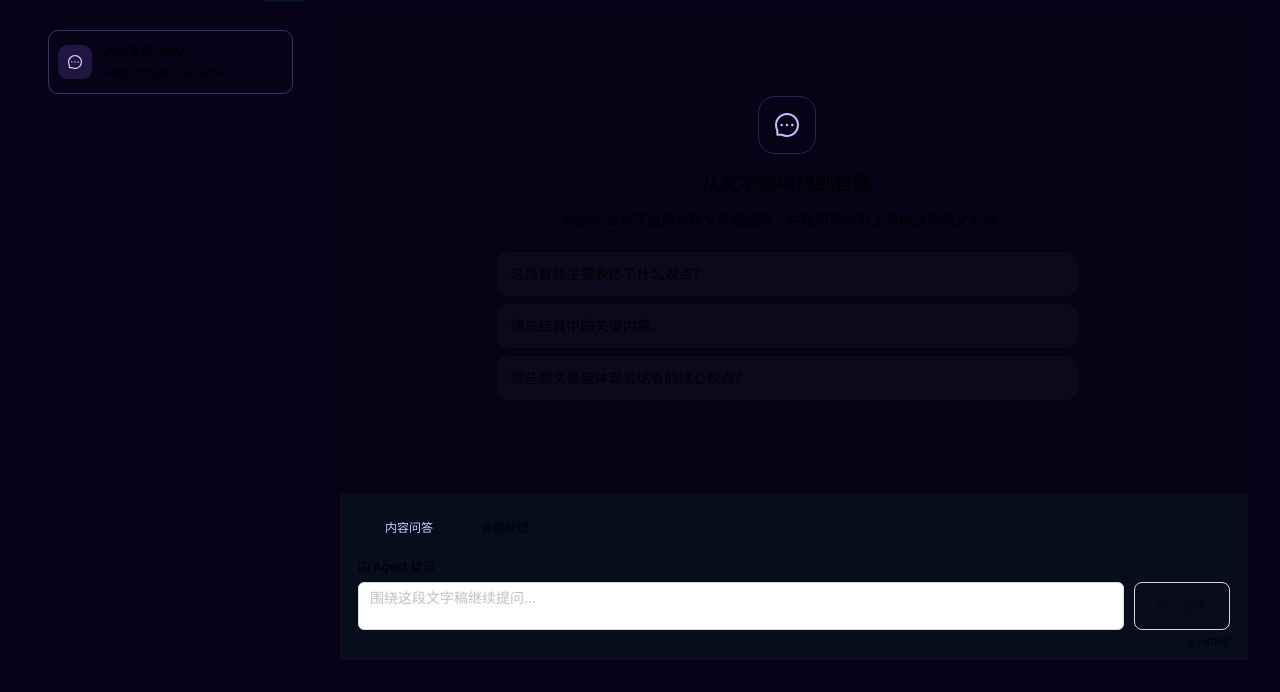
Test: AgentConversationPage › replaces optimistic messages with the successful USER and ASSISTANT response
(page scrolled)
Expected: the button "访谈录音.wav 创建于 2026/8/4 10:00:00" is shown, [48,30,293,94]
Type "新的问题" into the text box labelled "向 Agent 提问" at [741, 606], box [358,582,1124,630]
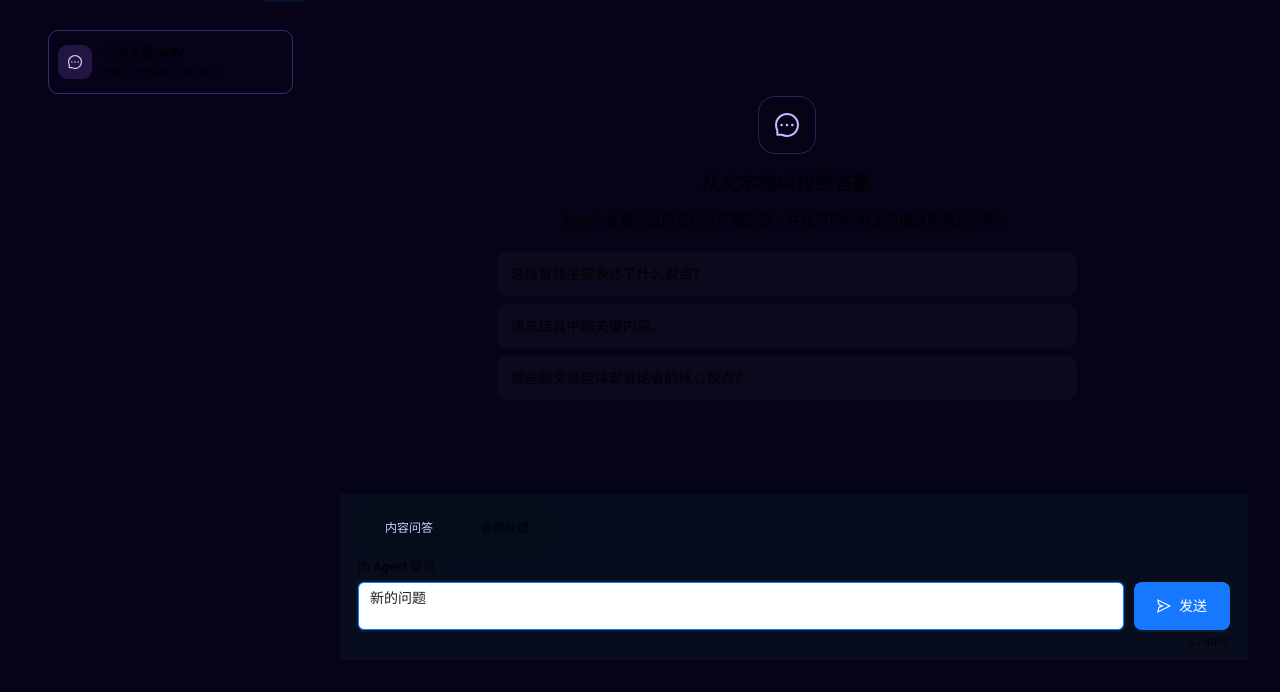
Click the button with aria-label "发送问题" at [1182, 606], box [1134,582,1230,630]
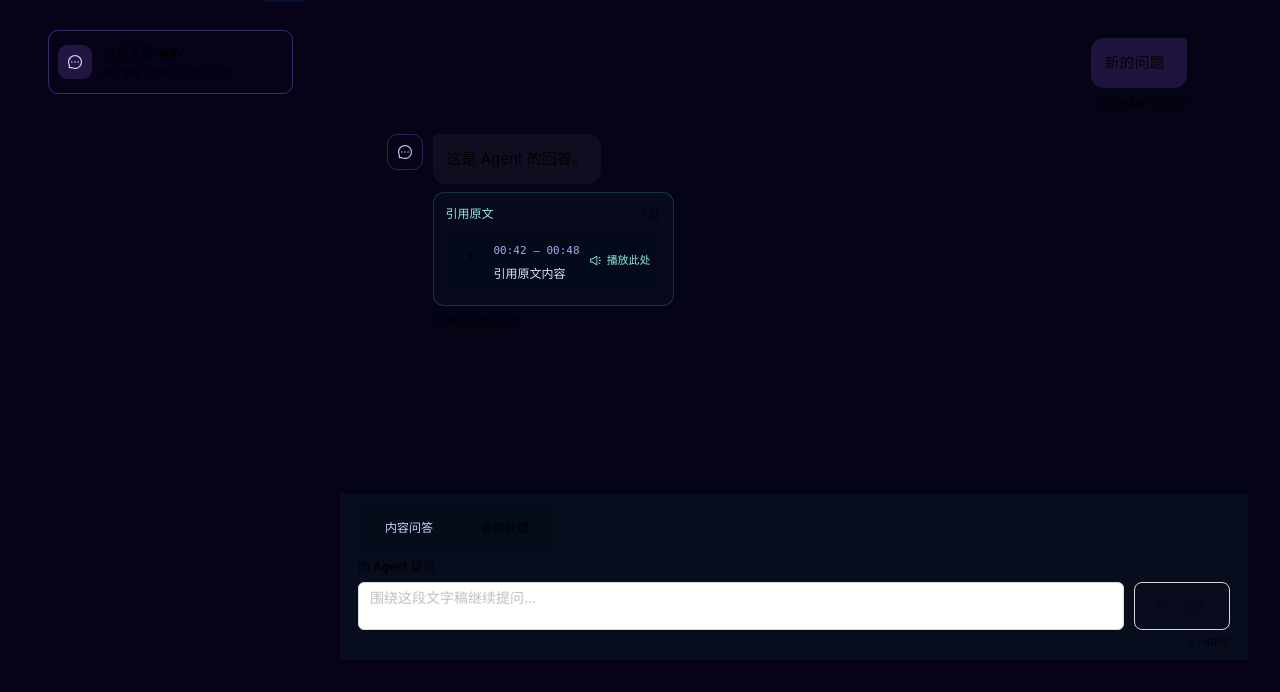
Expected: the text "这是 Agent 的回答。" is shown, [446,146,587,172]
Result: the text "新的问题" is shown once at [1104,50,1172,76]
